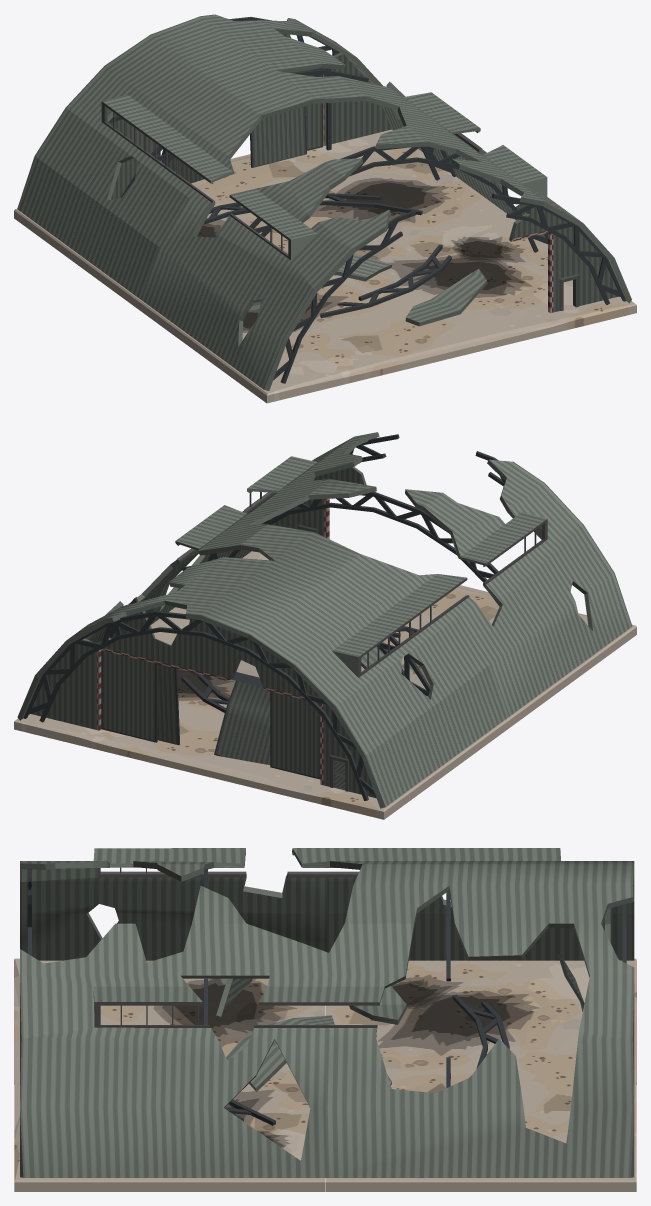
The model's file is SM_Bld_Hangar_Destroyed_01.fbx.
3 renders of one model, top to bottom at view 1: azimuth 30°, elevation 25°; view 2: azimuth 150°, elevation 25°; view 3: azimuth 270°, elevation 25°, orthographic. The views are drawn at different scales.
Parts seen in each view (by area): view 1: SM_Bld_Hangar_Destroyed_01; view 2: SM_Bld_Hangar_Destroyed_01; view 3: SM_Bld_Hangar_Destroyed_01.
Boxes of the visible parts, x1,y1,x2,y2 form: SM_Bld_Hangar_Destroyed_01: [14, 14, 636, 403]; SM_Bld_Hangar_Destroyed_01: [14, 432, 636, 819]; SM_Bld_Hangar_Destroyed_01: [14, 848, 636, 1191].
Bounding box in the file's own units: 3063 × 1259 × 3626.
